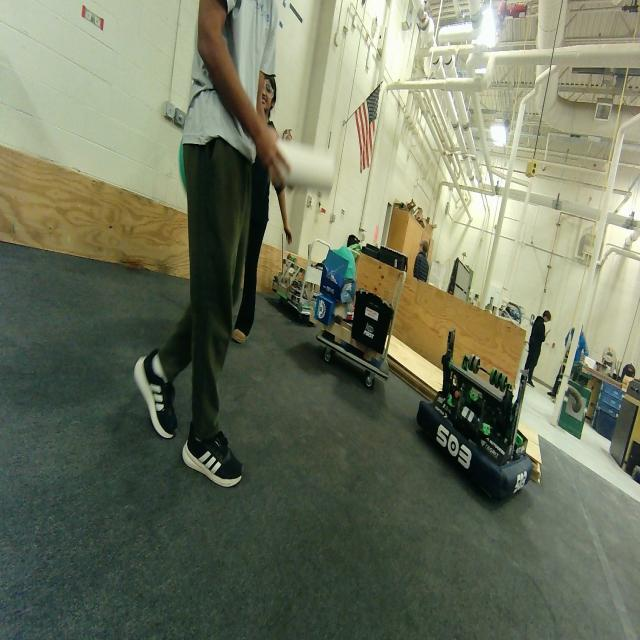coral: (276, 140, 337, 195)
